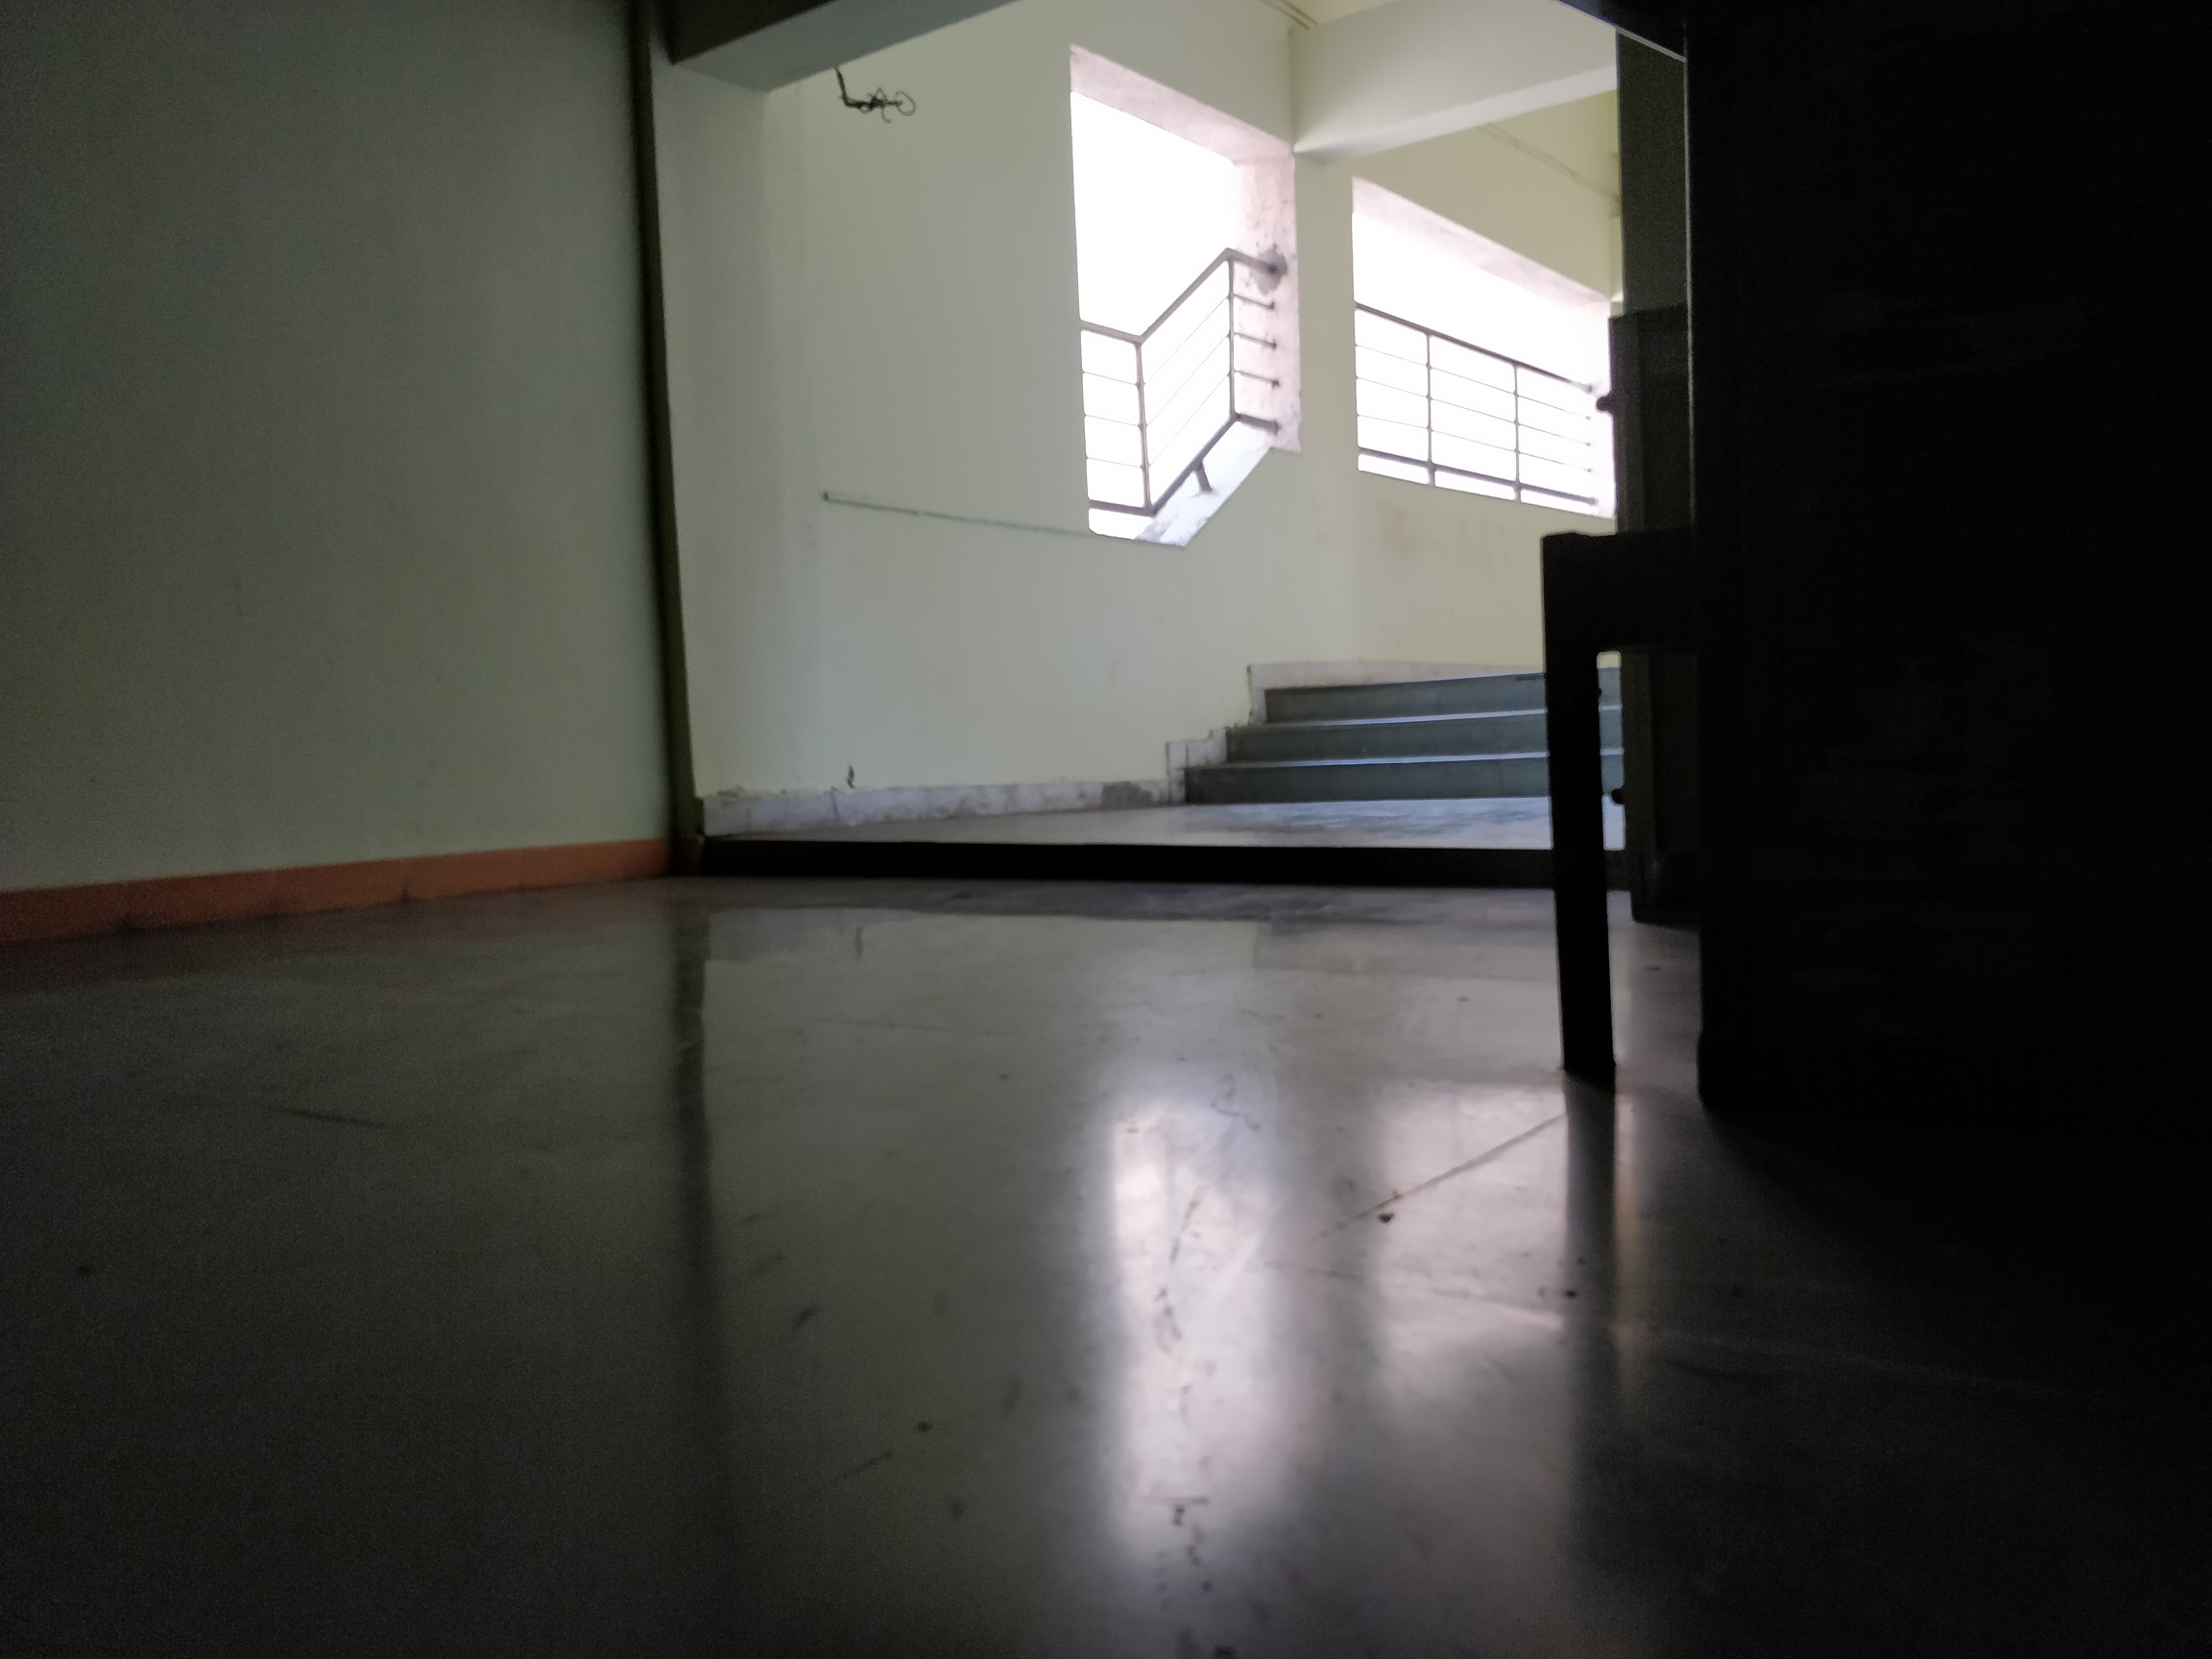stairs_up: (1146, 647, 1646, 824)
